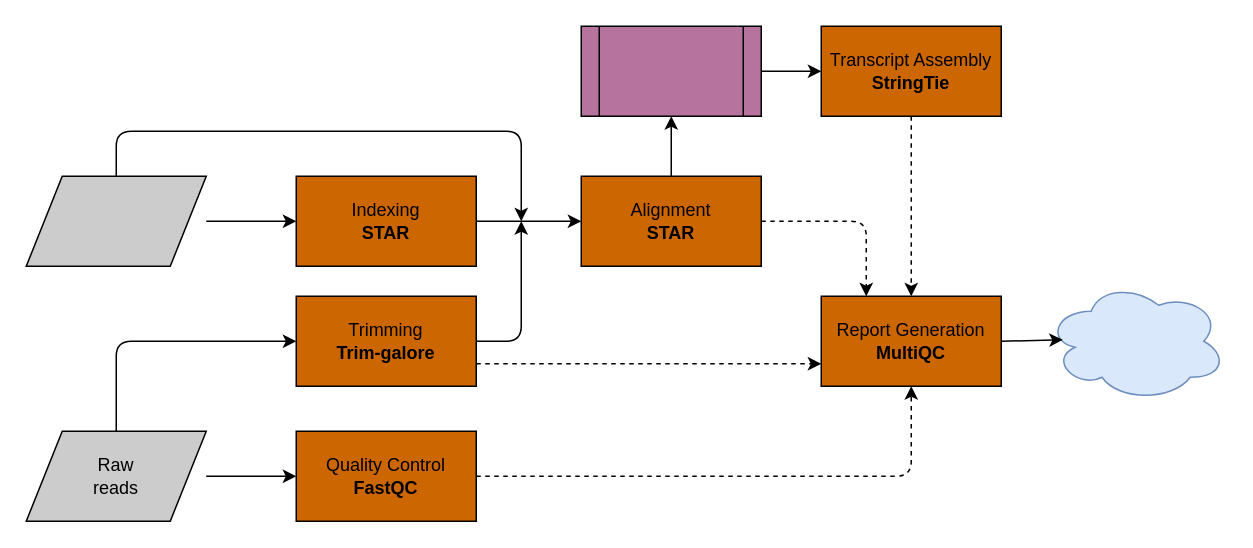
The diagram is 1253 pixels wide and 548 high, and some of its shapes have lost their labels. Each missing label, with the box of its shape:
Alignment Check: (580, 25, 761, 116)
Genome and Annotation: (25, 175, 206, 266)
HTML Report: (1045, 280, 1226, 401)
